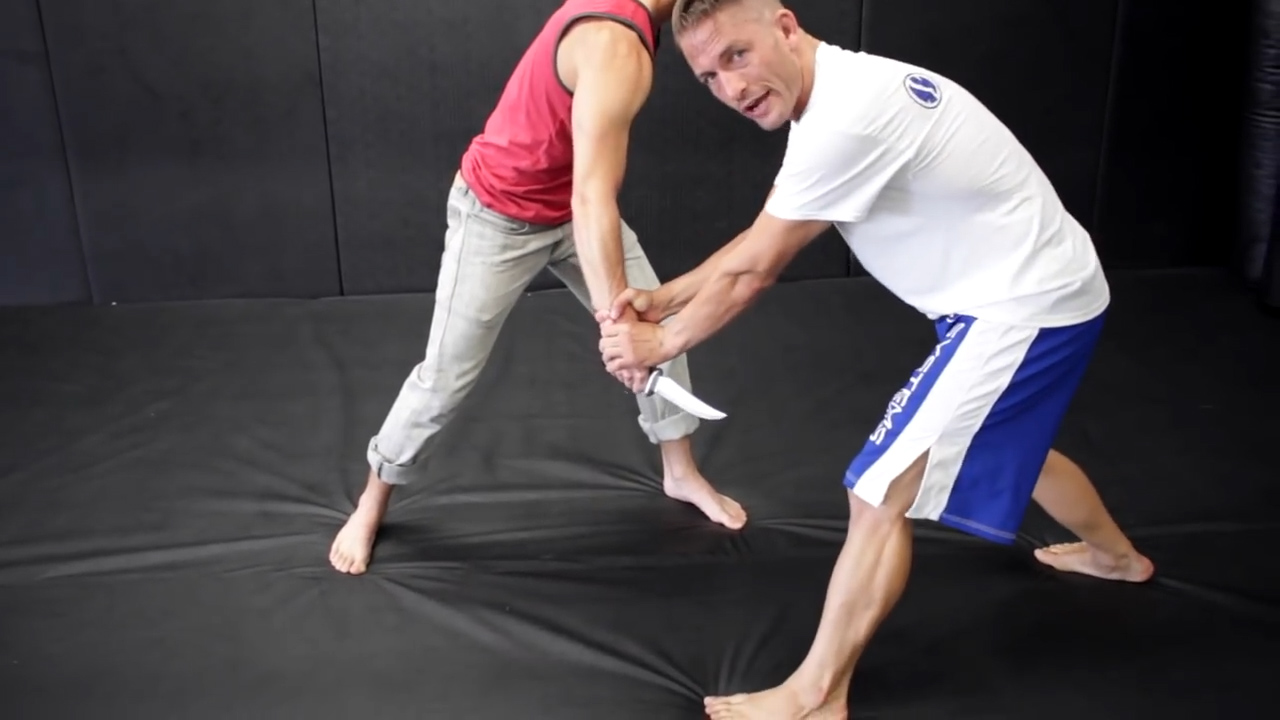knife: (601, 356, 735, 432)
